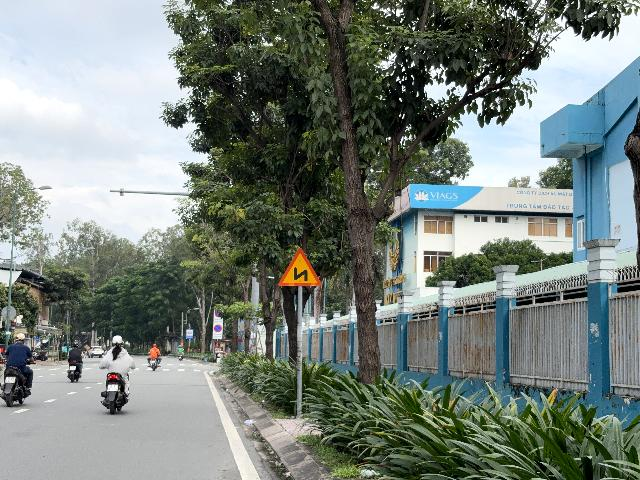nhieu-cho-ngoat-nguy-hiem-lien-tiep: (278, 247, 322, 286)
